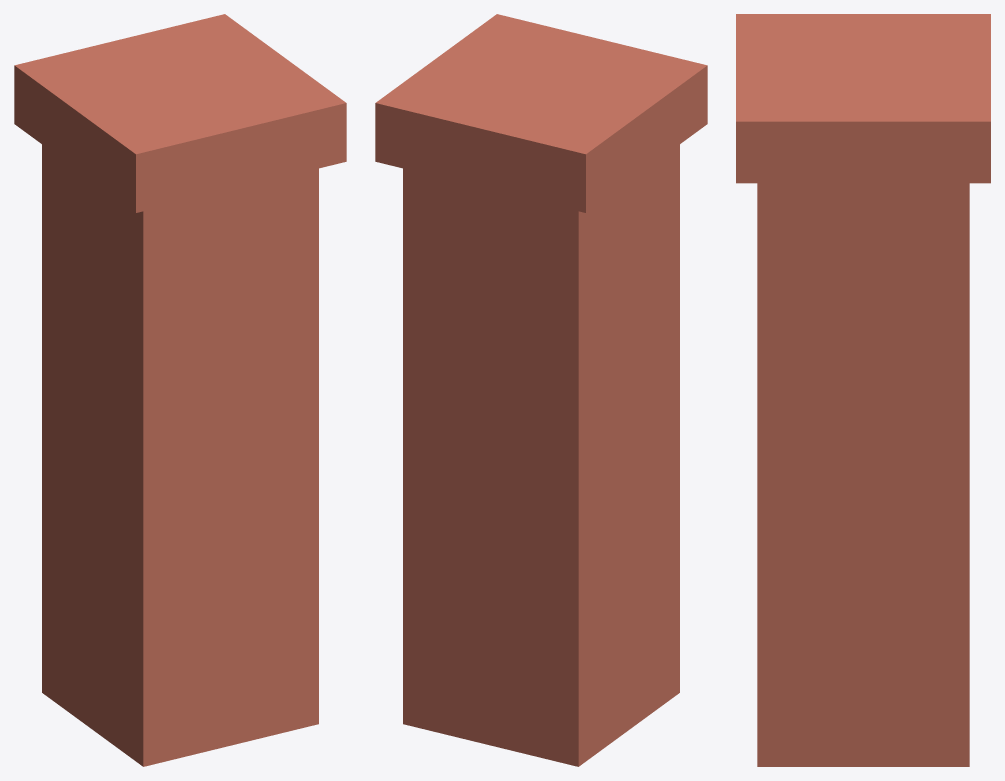
The model's file is restored-lighthouse.glb.
The picture shows the model from 3 angles, left to right: view 1: azimuth 30°, elevation 25°; view 2: azimuth 150°, elevation 25°; view 3: azimuth 270°, elevation 25°; orthographic projection. The views are drawn at different scales.
Parts seen in each view (by area): view 1: restored-lighthouse-static-lighthouse-wall, restored-lighthouse-static-lighthouse-roof; view 2: restored-lighthouse-static-lighthouse-wall, restored-lighthouse-static-lighthouse-roof; view 3: restored-lighthouse-static-lighthouse-wall, restored-lighthouse-static-lighthouse-roof.
Boxes of the visible parts, x1,y1,x2,y2 form: restored-lighthouse-static-lighthouse-wall: (42, 144, 318, 766); restored-lighthouse-static-lighthouse-roof: (14, 14, 346, 212); restored-lighthouse-static-lighthouse-wall: (403, 144, 679, 766); restored-lighthouse-static-lighthouse-roof: (375, 14, 707, 212); restored-lighthouse-static-lighthouse-wall: (757, 183, 969, 766); restored-lighthouse-static-lighthouse-roof: (736, 14, 990, 183).
Bounding box in the file's own units: 3 × 8.5 × 3.
